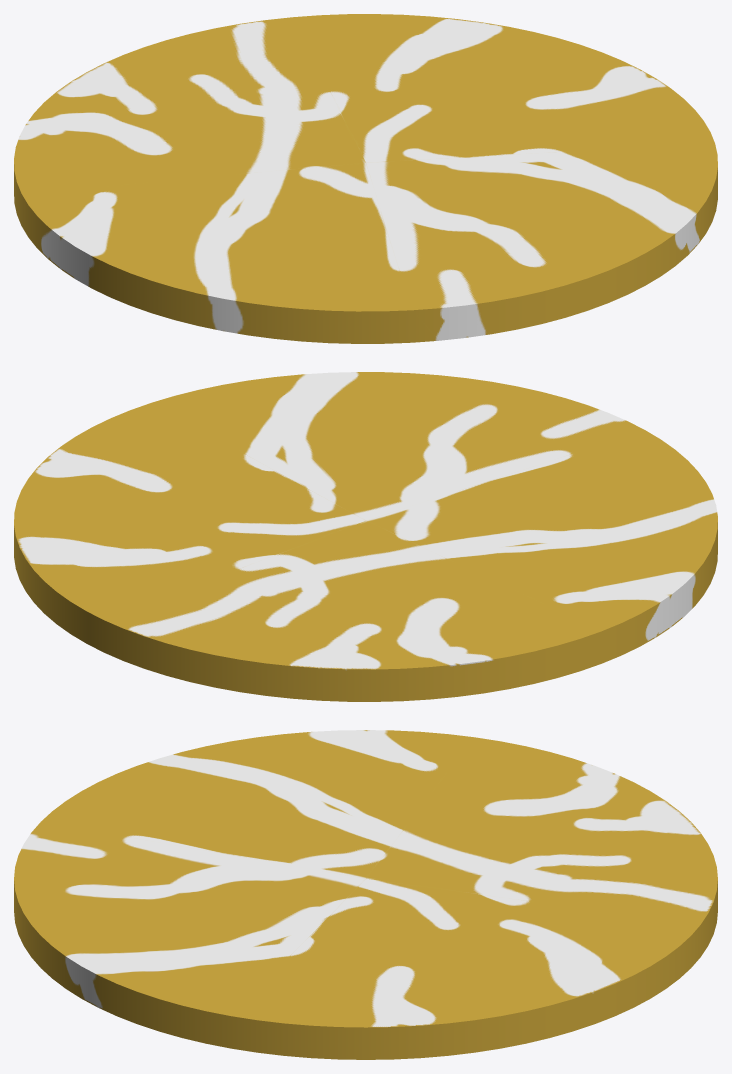
File: Gold.fbx
The picture shows the model from 3 angles, top to bottom: view 1: azimuth 30°, elevation 25°; view 2: azimuth 150°, elevation 25°; view 3: azimuth 270°, elevation 25°; orthographic projection.
Visible parts, largest first — view 1: root; view 2: root; view 3: root.
Boxes of the visible parts, box(x1,y1,x2,y2) form: root: box(14, 14, 717, 343); root: box(14, 372, 717, 701); root: box(14, 730, 717, 1059).
Size of the model in its own units: 0.3745 by 0.0191 by 0.3745.
Materials: 1 (1 with a texture image).
